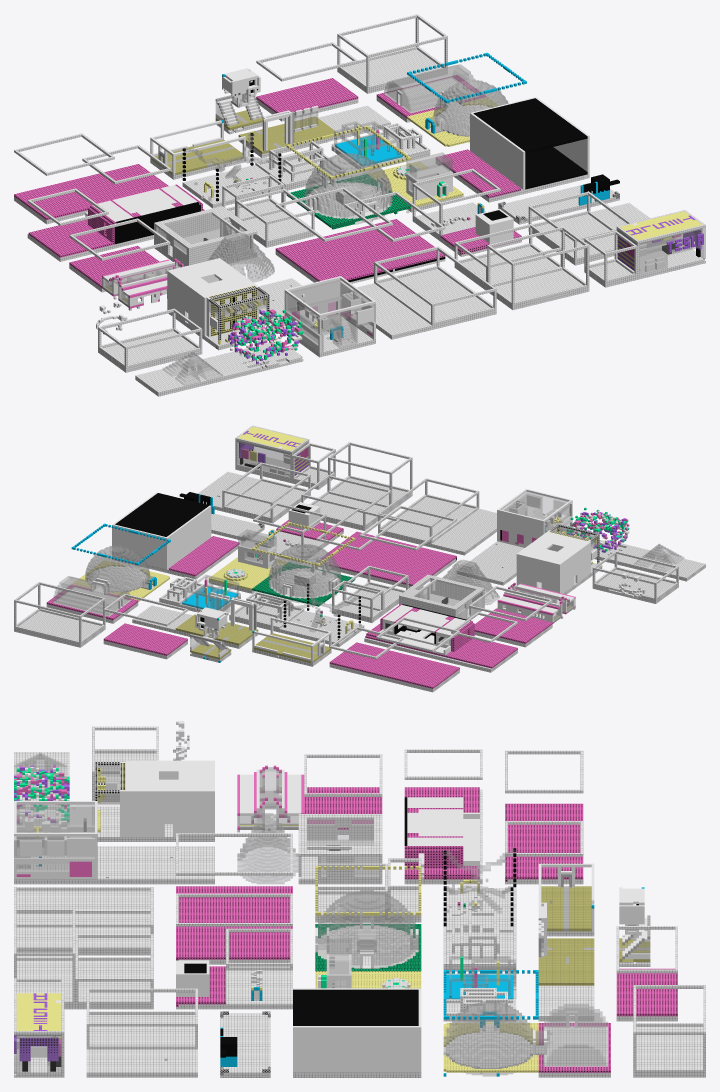
The model's file is Mars-v1.glb.
3 renders of one model, top to bottom at view 1: azimuth 30°, elevation 25°; view 2: azimuth 150°, elevation 25°; view 3: azimuth 270°, elevation 25°, orthographic. The views are drawn at different scales.
Parts seen in each view (by area): view 1: solid-voxels_8.012, solid-voxels_20.011, solid-voxels_3.012, solid-voxels_7.012, solid-voxels_45.011, solid-voxels_41.011, solid-voxels_36.011, solid-voxels_1.012, solid-voxels_35.011, glass-voxels_13.010, solid-voxels_5.012, solid-voxels.012 (+47 smaller); view 2: solid-voxels_8.012, solid-voxels_24.011, solid-voxels_35.011, solid-voxels_41.011, solid-voxels_3.012, solid-voxels_7.012, solid-voxels_1.012, glass-voxels_13.010, solid-voxels_36.011, solid-voxels_4.012, solid-voxels_46.011, solid-voxels_18.012 (+44 smaller); view 3: solid-voxels_8.012, solid-voxels_24.011, solid-voxels_35.011, solid-voxels_3.012, solid-voxels_46.011, solid-voxels_41.011, glass-voxels_13.010, solid-voxels_20.011, solid-voxels_45.011, glass-voxels_17.010, solid-voxels_4.012, solid-voxels_13.012 (+45 smaller).
Part boxes in pixels (x1,y1,x2,y2): solid-voxels_8.012: [470, 97, 589, 194]; solid-voxels_20.011: [284, 276, 375, 357]; solid-voxels_3.012: [374, 246, 496, 329]; solid-voxels_7.012: [275, 187, 392, 283]; solid-voxels_45.011: [154, 206, 257, 266]; solid-voxels_41.011: [286, 125, 411, 229]; solid-voxels_36.011: [616, 210, 705, 279]; solid-voxels_1.012: [337, 14, 447, 93]; solid-voxels_35.011: [78, 184, 204, 249]; glass-voxels_13.010: [304, 153, 408, 224]; solid-voxels_5.012: [487, 226, 589, 309]; solid-voxels.012: [98, 308, 202, 372]; solid-voxels_8.012: [112, 492, 211, 573]; solid-voxels_24.011: [516, 531, 590, 594]; solid-voxels_35.011: [364, 603, 475, 662]; solid-voxels_41.011: [252, 522, 355, 606]; solid-voxels_3.012: [378, 478, 479, 547]; solid-voxels_7.012: [359, 505, 456, 587]; solid-voxels_1.012: [14, 582, 105, 647]; glass-voxels_13.010: [254, 544, 341, 603]; solid-voxels_36.011: [235, 425, 309, 483]; solid-voxels_4.012: [222, 462, 310, 523]; solid-voxels_46.011: [71, 523, 170, 601]; solid-voxels_18.012: [376, 617, 459, 692]; solid-voxels_8.012: [293, 988, 421, 1077]; solid-voxels_24.011: [125, 760, 214, 841]; solid-voxels_35.011: [404, 796, 482, 884]; solid-voxels_3.012: [14, 887, 153, 955]; solid-voxels_46.011: [443, 970, 538, 1076]; solid-voxels_41.011: [315, 866, 421, 971]; glass-voxels_13.010: [318, 890, 418, 968]; solid-voxels_20.011: [14, 801, 97, 884]; solid-voxels_45.011: [298, 814, 382, 884]; glass-voxels_17.010: [443, 1001, 538, 1076]; solid-voxels_4.012: [86, 988, 197, 1049]; solid-voxels_13.012: [176, 893, 292, 964].
Bounding box in the file's own units: 136 × 13 × 124.
2 materials, 1 textured.
